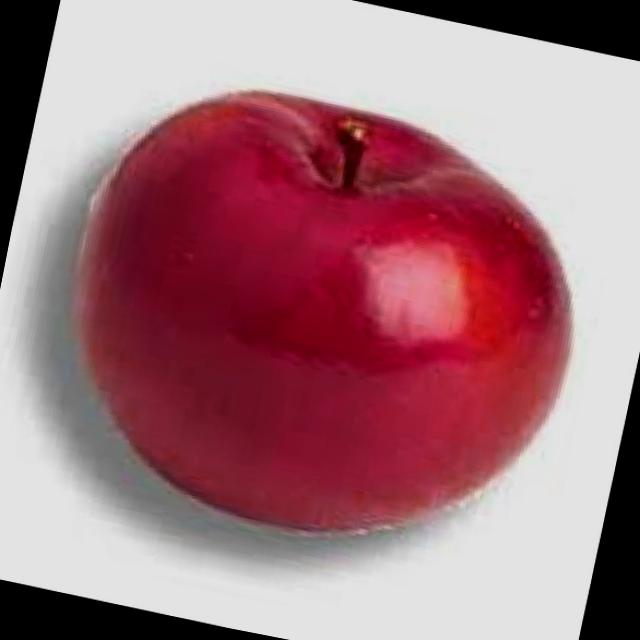Apple: (19, 42, 632, 603)
